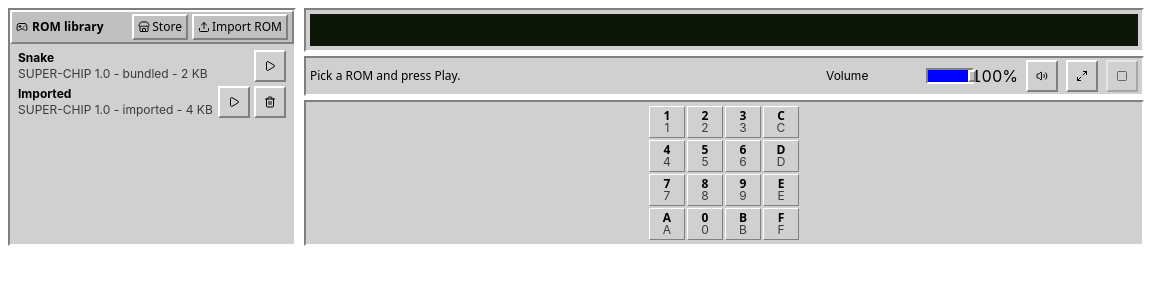
Test case: game route › starts the selected ROM through the backend
expect the text "Snake" is shown: met, box [18,50,54,65]
Click the button named "Play" next to "2 KB".
click(270, 66)  # box [254,50,286,82]
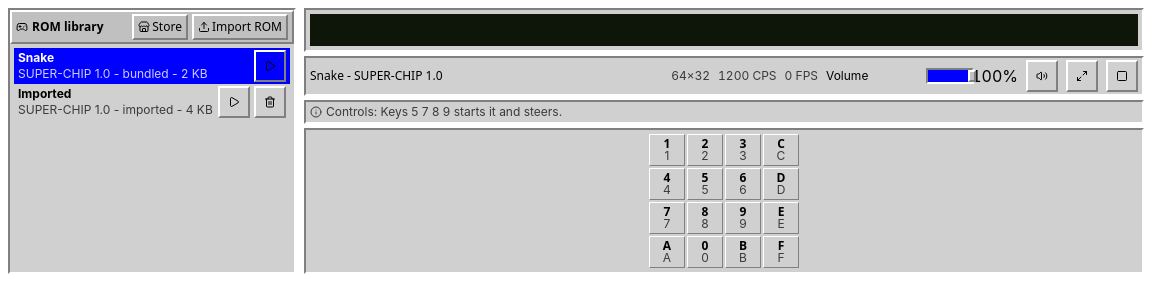
expect the text "Snake - SUPER-CHIP 1.0" is shown: met, box [310,67,442,84]
